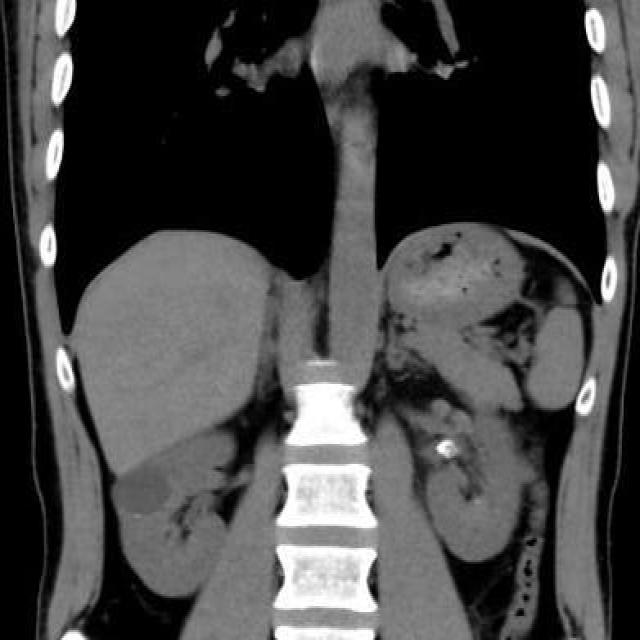Tas_Var: (442, 442, 460, 460), (436, 439, 451, 453), (474, 497, 480, 505)
